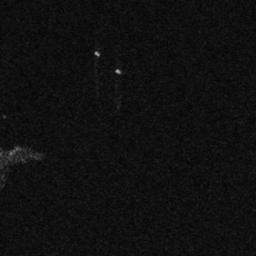ship: (114, 68, 121, 74), (94, 50, 100, 57)
